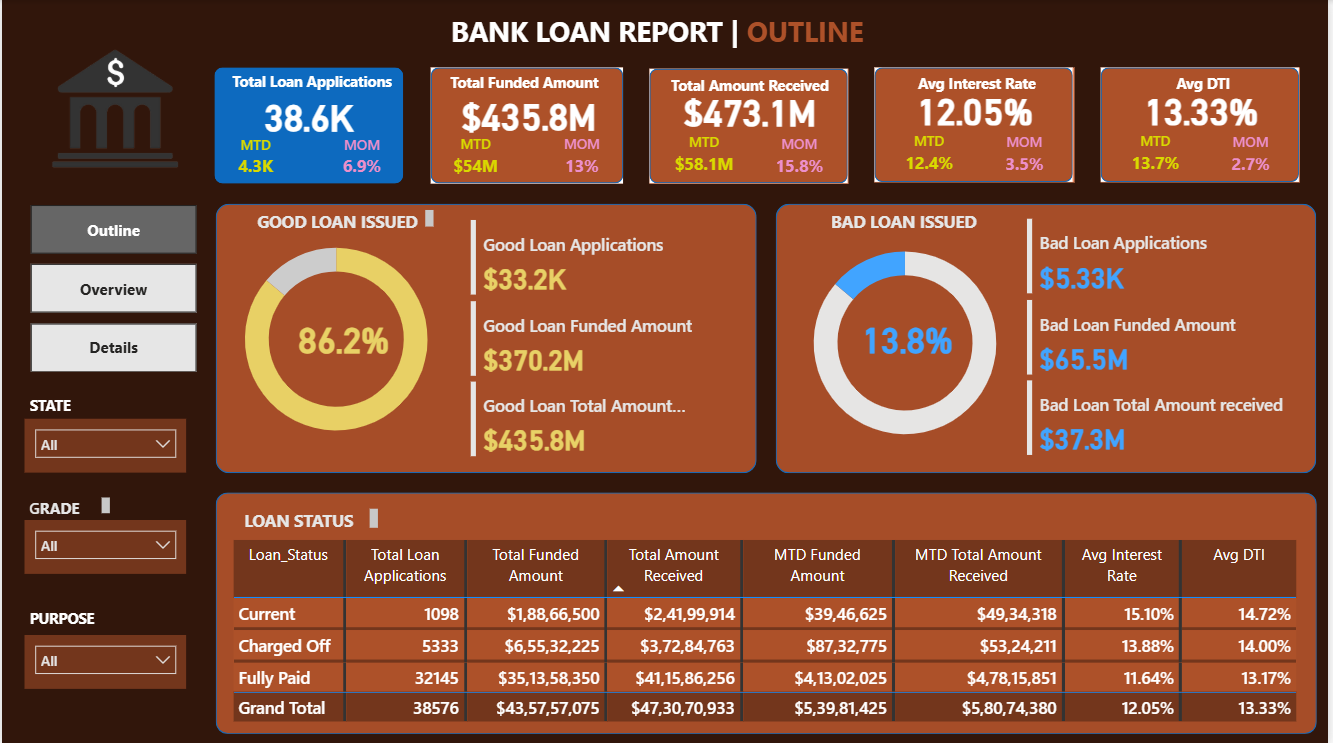

What the dashboard file says about the page in this screenshot:
{"tool":"powerbi","page":{"name":"Outline","canvas":[1280,720],"ordinal":0},"visuals":[{"type":"group","id":"g1","title":"Group 1","box":[205.6,63.8,183.4,113.2],"z":0,"group":"g6"},{"type":"shape","box":[205.6,64.6,182,111.9],"z":0,"group":"g1"},{"type":"shape","box":[842.7,65.1,191.3,110.6],"z":0,"group":"g4"},{"type":"shape","box":[1060.4,65.1,191.3,110.6],"z":0,"group":"g5"},{"type":"shape","box":[414.2,65.2,185.8,111.8],"z":0,"group":"g2"},{"type":"shape","box":[625.1,66.4,191.3,110.6],"z":0,"group":"g3"},{"type":"shape","box":[205.8,196.8,522,260],"z":0},{"type":"donutChart","fields":{"Category":["bank_loan_data.Good v/s bad Loan Status"],"Y":["bank_loan_data.Total Loan Applications"]},"box":[198.1,212.3,249.8,230.4],"z":0,"group":"g7"},{"type":"group","id":"g2","title":"Group 1","box":[414,65.1,186,111.9],"z":1000,"group":"g6"},{"type":"card","fields":{"Values":["bank_loan_data.Total Funded Amount"]},"box":[429.5,84,158.1,51.8],"z":1000,"group":"g2"},{"type":"card","fields":{"Values":["bank_loan_data.Total Amount received"]},"box":[857,84.7,164.9,41.6],"z":1000,"group":"g4"},{"type":"card","fields":{"Values":["bank_loan_data.Avg DTI"]},"box":[1074.7,84.7,164.9,41.6],"z":1000,"group":"g5"},{"type":"card","fields":{"Values":["bank_loan_data.Total Amount received"]},"box":[639.4,86,164.9,41.6],"z":1000,"group":"g3"},{"type":"card","fields":{"Values":["bank_loan_data.Total Loan Applications"]},"box":[217.7,87.2,158.3,49.4],"z":1000,"group":"g1"},{"type":"cardVisual","fields":{"Data":["bank_loan_data.Good Loan Applications","bank_loan_data.Good Loan Funded Amount","bank_loan_data.Good Loan Total Amount received"]},"box":[447.9,207.1,270.6,239.5],"z":1000,"group":"g7"},{"type":"card","fields":{"Values":["bank_loan_data.Good Loan %"]},"box":[251.1,300.3,157.9,51.8],"z":1000},{"type":"textbox","box":[217.7,63.8,171.5,46.8],"z":2000,"group":"g1"},{"type":"textbox","box":[414,65.1,180.5,45],"z":2000,"group":"g2"},{"type":"textbox","box":[844.1,65.9,191.3,35.1],"z":2000,"group":"g4"},{"type":"textbox","box":[1061.8,65.9,191.3,35.1],"z":2000,"group":"g5"},{"type":"group","id":"g3","title":"Group 1","box":[625.1,66.4,192.6,110.6],"z":2000,"group":"g6"},{"type":"textbox","box":[626.5,67.2,191.3,35.1],"z":2000,"group":"g3"},{"type":"cardVisual","fields":{"Data":["bank_loan_data.Bad Loan Applications","bank_loan_data.Bad Loan Funded Amount","bank_loan_data.Bad Loan Total Amount received"]},"box":[985.2,205.8,270.6,239.5],"z":2000,"group":"g7"},{"type":"textbox","box":[22.1,376,156.1,36.4],"z":2000},{"type":"slicer","fields":{"Values":["bank_loan_data.address_state"]},"box":[22.1,404.6,156.1,52],"z":2000,"group":"g8"},{"type":"group","id":"g4","title":"Group 1","box":[842.7,65.1,192.6,110.6],"z":3000,"group":"g6"},{"type":"card","title":"MTD ","fields":{"Values":["bank_loan_data.MTD avg amount"]},"box":[857.2,127,76.5,46.8],"z":3000,"group":"g4"},{"type":"card","title":"MTD ","fields":{"Values":["bank_loan_data.MTD DTI amount"]},"box":[1074.9,127,76.5,46.8],"z":3000,"group":"g5"},{"type":"card","title":"MTD ","fields":{"Values":["bank_loan_data.MTD total amount received"]},"box":[639.6,128.3,76.5,46.8],"z":3000,"group":"g3"},{"type":"card","title":"MTD ","fields":{"Values":["bank_loan_data.MTD Funded amount"]},"box":[429.5,129,55.3,47.7],"z":3000,"group":"g2"},{"type":"card","title":"MTD ","fields":{"Values":["bank_loan_data.MTD Loan Applications"]},"box":[217.7,130.2,55.4,45.5],"z":3000,"group":"g1"},{"type":"slicer","fields":{"Values":["bank_loan_data.grade"]},"box":[22.1,502.2,156.1,52],"z":3000},{"type":"group","id":"g5","title":"Group 1","box":[1060.4,65.1,192.6,110.6],"z":4000,"group":"g6"},{"type":"card","title":"MOM ","fields":{"Values":["bank_loan_data.MOM Avg"]},"box":[953.5,128.3,67.3,42.9],"z":4000,"group":"g4"},{"type":"card","title":"MOM ","fields":{"Values":["bank_loan_data.MOM DTI Avg"]},"box":[1171.2,128.3,67.3,42.9],"z":4000,"group":"g5"},{"type":"card","title":"MOM ","fields":{"Values":["bank_loan_data.MOM Funded"]},"box":[532.3,129,55.3,47.7],"z":4000,"group":"g2"},{"type":"card","title":"MOM ","fields":{"Values":["bank_loan_data.MOM total application"]},"box":[735.9,129.6,67.3,42.9],"z":4000,"group":"g3"},{"type":"card","title":"MOM ","fields":{"Values":["bank_loan_data.MOM Applications"]},"box":[320.6,130.2,55.4,45.5],"z":4000,"group":"g1"},{"type":"textbox","box":[22.1,582.9,161.3,29.9],"z":4000},{"type":"textbox","box":[428.1,6.9,424,48],"z":5000},{"type":"group","id":"g6","title":"Group 2","box":[205.6,63.8,1047.4,113.2],"z":6000},{"type":"shape","box":[746.9,196.8,521.7,260.2],"z":7000},{"type":"textbox","box":[240.8,198.1,179.9,28.5],"z":8000},{"type":"donutChart","fields":{"Category":["bank_loan_data.Good v/s bad Loan Status"],"Y":["bank_loan_data.Total Loan Applications"]},"box":[746.9,216.2,249.8,230.4],"z":9000},{"type":"textbox","box":[794.8,198.1,169.6,41.4],"z":10000},{"type":"card","fields":{"Values":["bank_loan_data.Bad Loan %"]},"box":[794.8,300.3,157.9,51.8],"z":11000},{"type":"group","id":"g7","title":"Group 3","box":[198.1,205.8,1057.6,240.8],"z":12000},{"type":"shape","box":[205.8,475.1,1062.8,233],"z":13000},{"type":"tableEx","fields":{"Values":["bank_loan_data.loan_status","bank_loan_data.Total Loan Applications","bank_loan_data.Total Funded Amount","bank_loan_data.Total Amount received","bank_loan_data.MTD Funded amount","bank_loan_data.MTD total amount received","bank_loan_data.Avg interest rate","bank_loan_data.Avg DTI"]},"box":[217.5,516.5,1038.2,191.6],"z":14000},{"type":"textbox","box":[229.1,486.7,138.5,29.8],"z":15000},{"type":"group","id":"g8","title":"Group 4","box":[22.1,404.6,156.1,52],"z":16000},{"type":"textbox","box":[22.1,474.9,87.2,27.3],"z":17000},{"type":"slicer","fields":{"Values":["bank_loan_data.purpose"]},"box":[22.1,612.8,156.1,52],"z":18000},{"type":"image","box":[14.3,13,190.2,183.6],"z":19000},{"type":"pageNavigator","box":[27.4,198,160.2,161.5],"z":20000}]}

Visuals, with their boxes in screenshot pixels (x1, y1, x2, y2), scaled from the page's 1280x720 canvas onto the 1333x743 screenshot:
"Group 1" group: left=214, top=66, right=405, bottom=183
shape: left=214, top=67, right=404, bottom=182
shape: left=878, top=67, right=1077, bottom=181
shape: left=1104, top=67, right=1304, bottom=181
shape: left=431, top=67, right=625, bottom=183
shape: left=651, top=69, right=850, bottom=183
shape: left=214, top=203, right=758, bottom=471
donutChart - bank_loan_data.Good v/s bad Loan Status x bank_loan_data.Total Loan Applications: left=206, top=219, right=466, bottom=457
"Group 1" group: left=431, top=67, right=625, bottom=183
card - bank_loan_data.Total Funded Amount: left=447, top=87, right=612, bottom=140
card - bank_loan_data.Total Amount received: left=892, top=87, right=1064, bottom=130
card - bank_loan_data.Avg DTI: left=1119, top=87, right=1291, bottom=130
card - bank_loan_data.Total Amount received: left=666, top=89, right=838, bottom=132
card - bank_loan_data.Total Loan Applications: left=227, top=90, right=392, bottom=141
cardVisual - bank_loan_data.Good Loan Applications x bank_loan_data.Good Loan Funded Amount: left=466, top=214, right=748, bottom=461
card - bank_loan_data.Good Loan %: left=261, top=310, right=426, bottom=363
textbox: left=227, top=66, right=405, bottom=114
textbox: left=431, top=67, right=619, bottom=114
textbox: left=879, top=68, right=1078, bottom=104
textbox: left=1106, top=68, right=1305, bottom=104
"Group 1" group: left=651, top=69, right=852, bottom=183
textbox: left=652, top=69, right=852, bottom=106
cardVisual - bank_loan_data.Bad Loan Applications x bank_loan_data.Bad Loan Funded Amount: left=1026, top=212, right=1308, bottom=460
textbox: left=23, top=388, right=186, bottom=426
slicer - bank_loan_data.address_state: left=23, top=418, right=186, bottom=471
"Group 1" group: left=878, top=67, right=1078, bottom=181
"MTD " card: left=893, top=131, right=972, bottom=179
"MTD " card: left=1119, top=131, right=1199, bottom=179
"MTD " card: left=666, top=132, right=746, bottom=181
"MTD " card: left=447, top=133, right=505, bottom=182
"MTD " card: left=227, top=134, right=284, bottom=181
slicer - bank_loan_data.grade: left=23, top=518, right=186, bottom=572
"Group 1" group: left=1104, top=67, right=1305, bottom=181
"MOM " card: left=993, top=132, right=1063, bottom=177
"MOM " card: left=1220, top=132, right=1290, bottom=177
"MOM " card: left=554, top=133, right=612, bottom=182
"MOM " card: left=766, top=134, right=836, bottom=178
"MOM " card: left=334, top=134, right=392, bottom=181
textbox: left=23, top=602, right=191, bottom=632
textbox: left=446, top=7, right=887, bottom=57
"Group 2" group: left=214, top=66, right=1305, bottom=183
shape: left=778, top=203, right=1321, bottom=472
textbox: left=251, top=204, right=438, bottom=234
donutChart - bank_loan_data.Good v/s bad Loan Status x bank_loan_data.Total Loan Applications: left=778, top=223, right=1038, bottom=461
textbox: left=828, top=204, right=1004, bottom=247
card - bank_loan_data.Bad Loan %: left=828, top=310, right=992, bottom=363
"Group 3" group: left=206, top=212, right=1308, bottom=461
shape: left=214, top=490, right=1321, bottom=731
tableEx - bank_loan_data.loan_status x bank_loan_data.Total Loan Applications: left=227, top=533, right=1308, bottom=731
textbox: left=239, top=502, right=383, bottom=533
"Group 4" group: left=23, top=418, right=186, bottom=471
textbox: left=23, top=490, right=114, bottom=518
slicer - bank_loan_data.purpose: left=23, top=632, right=186, bottom=686
image: left=15, top=13, right=213, bottom=203
pageNavigator: left=29, top=204, right=195, bottom=371
